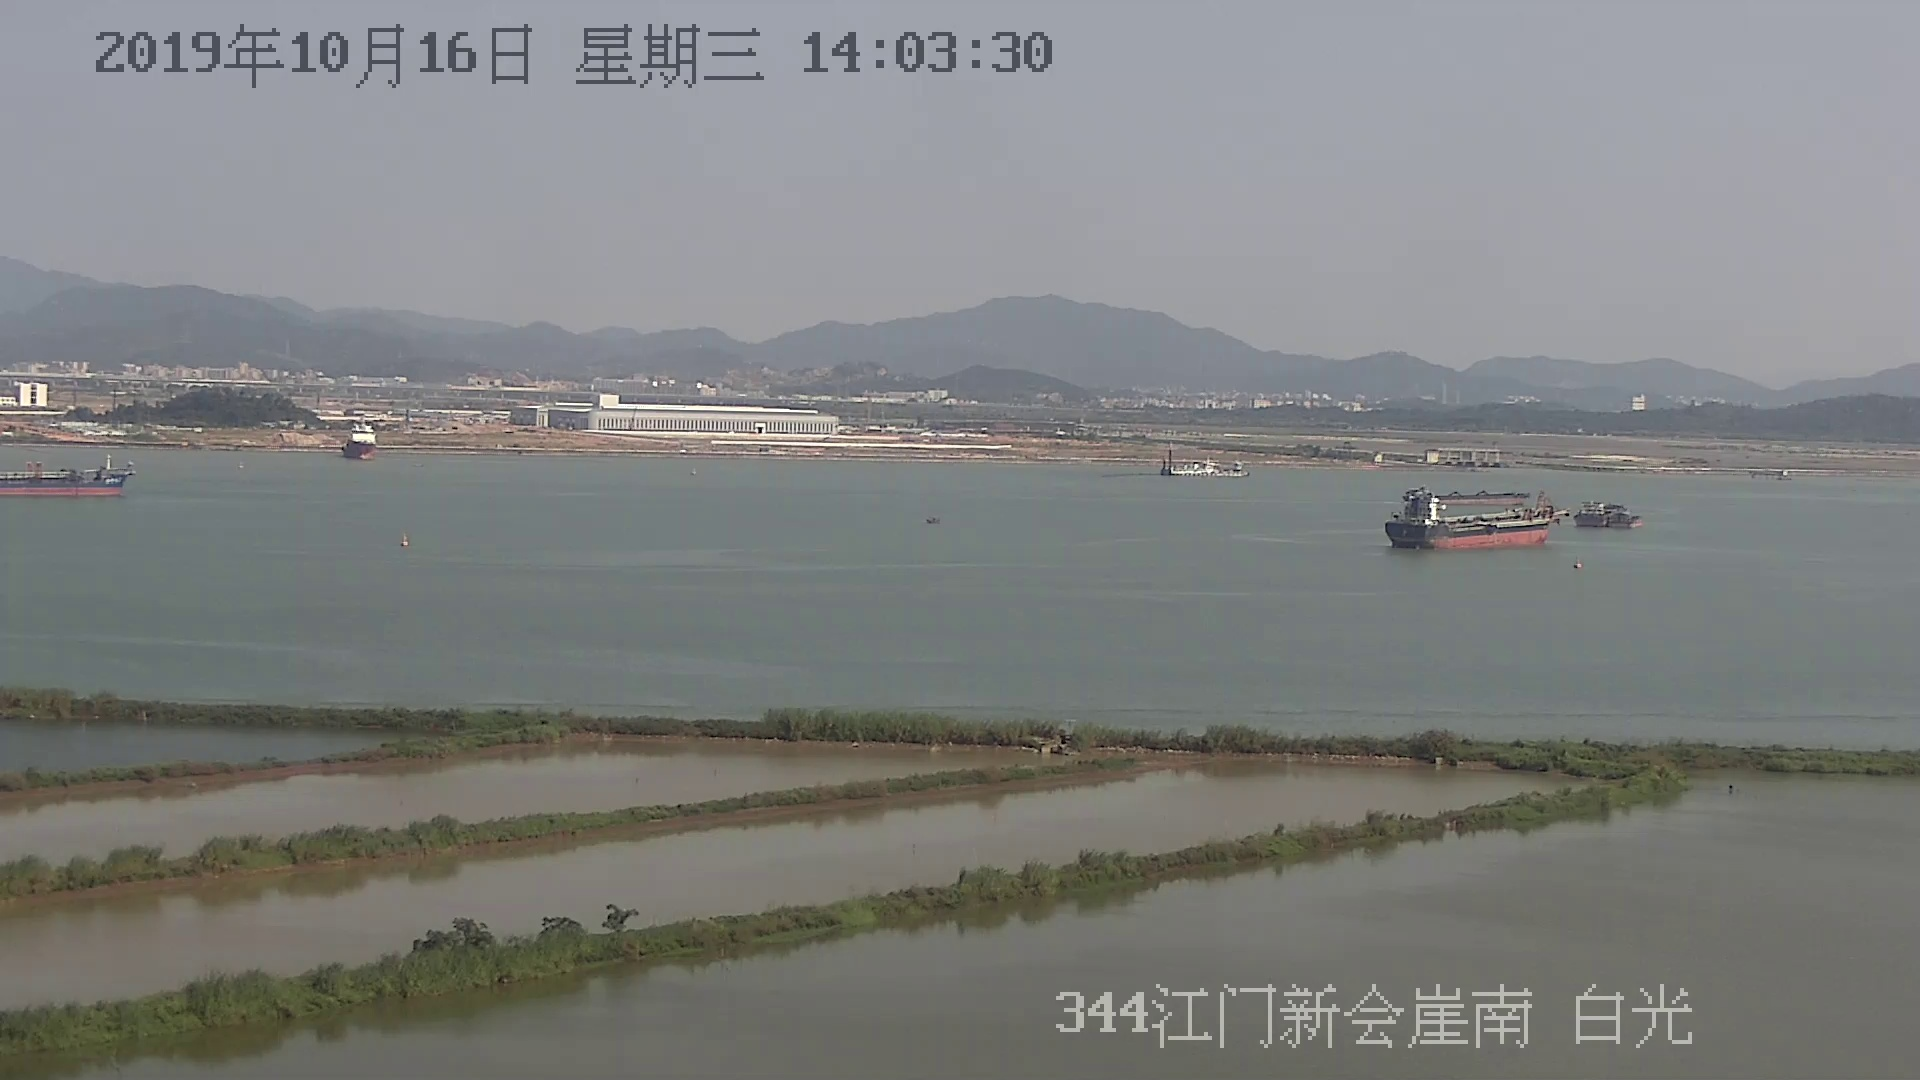ship: (1385, 487, 1563, 553), (1, 436, 135, 501), (1156, 451, 1247, 481), (1569, 505, 1643, 531), (344, 425, 378, 462)
